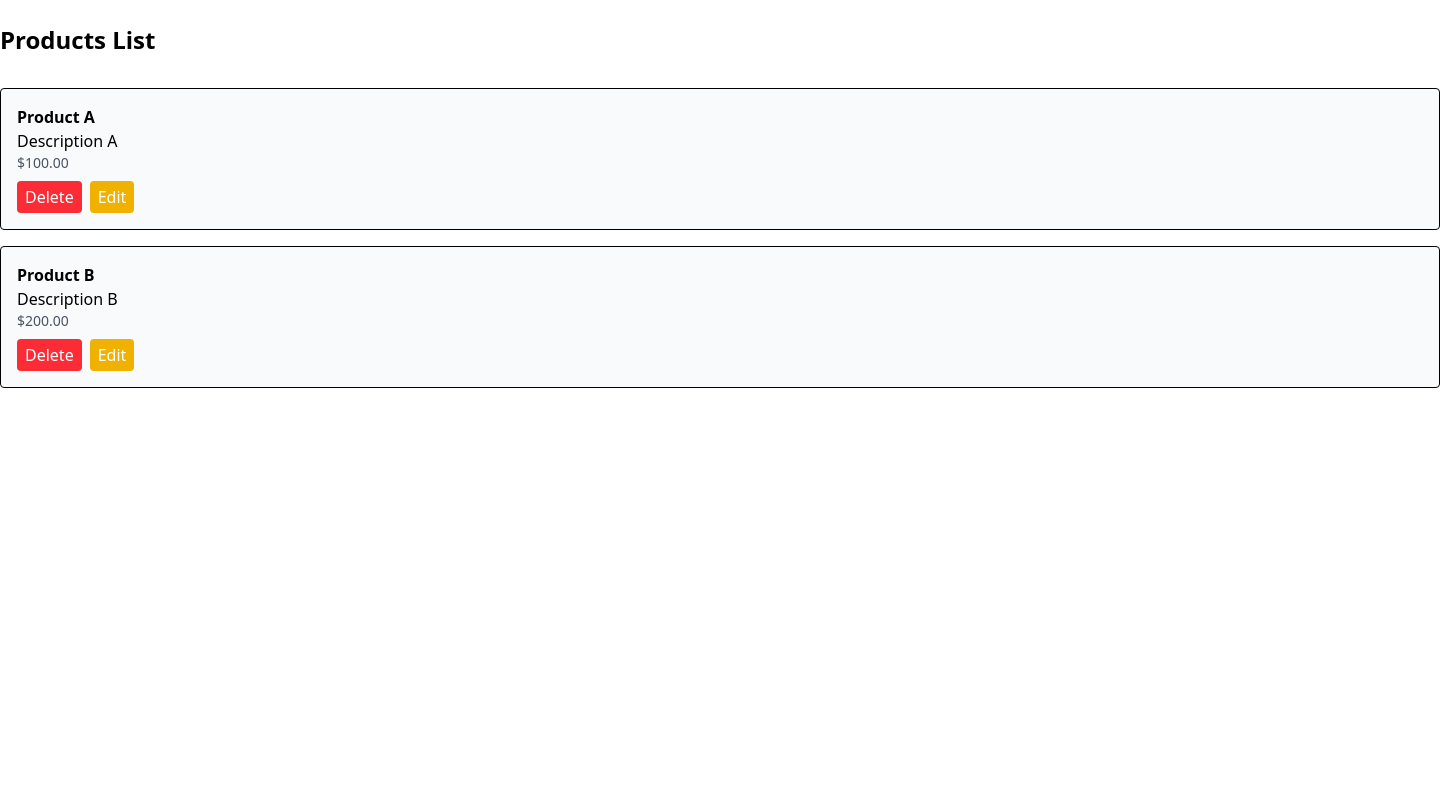
Test: ItemList component › closes modal on cancel
Click the button "Edit" below "100.00" at x=112, y=197, box [90,181,134,213]
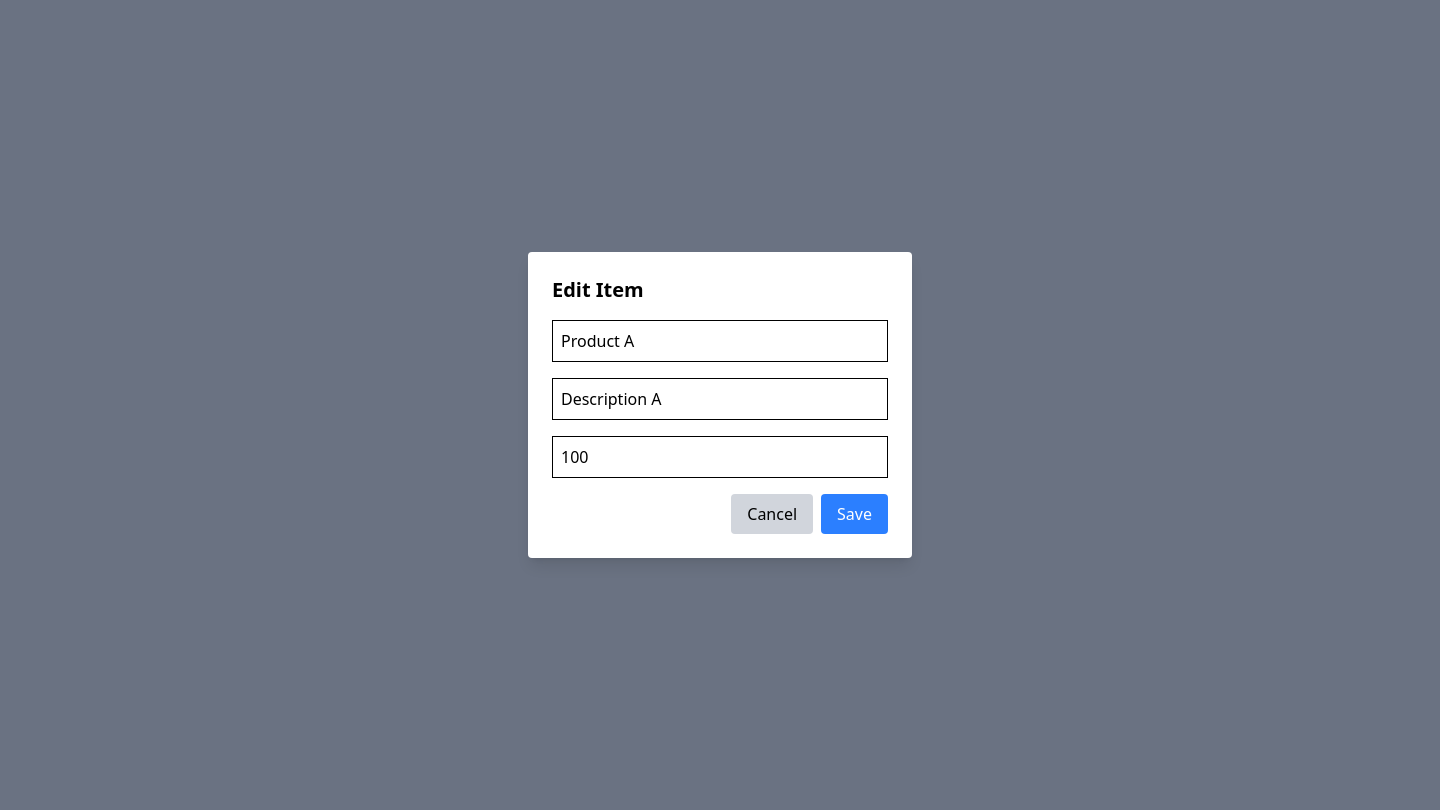
Check: the heading "Edit Item" is shown, box [552,276,644,303]
Click the button "Cancel" at x=772, y=514, box [731,494,813,534]
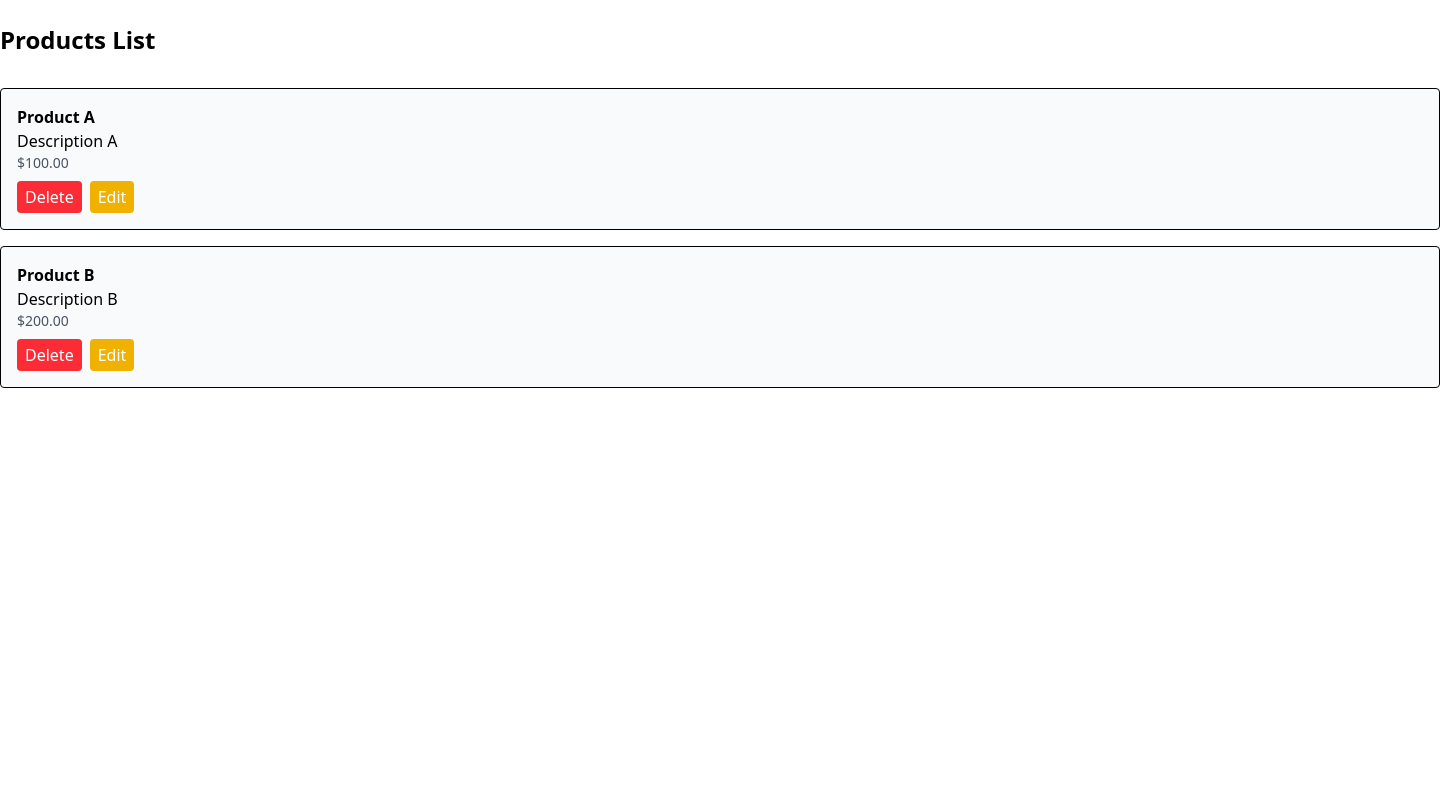
Check: the heading "Edit Item" is gone
